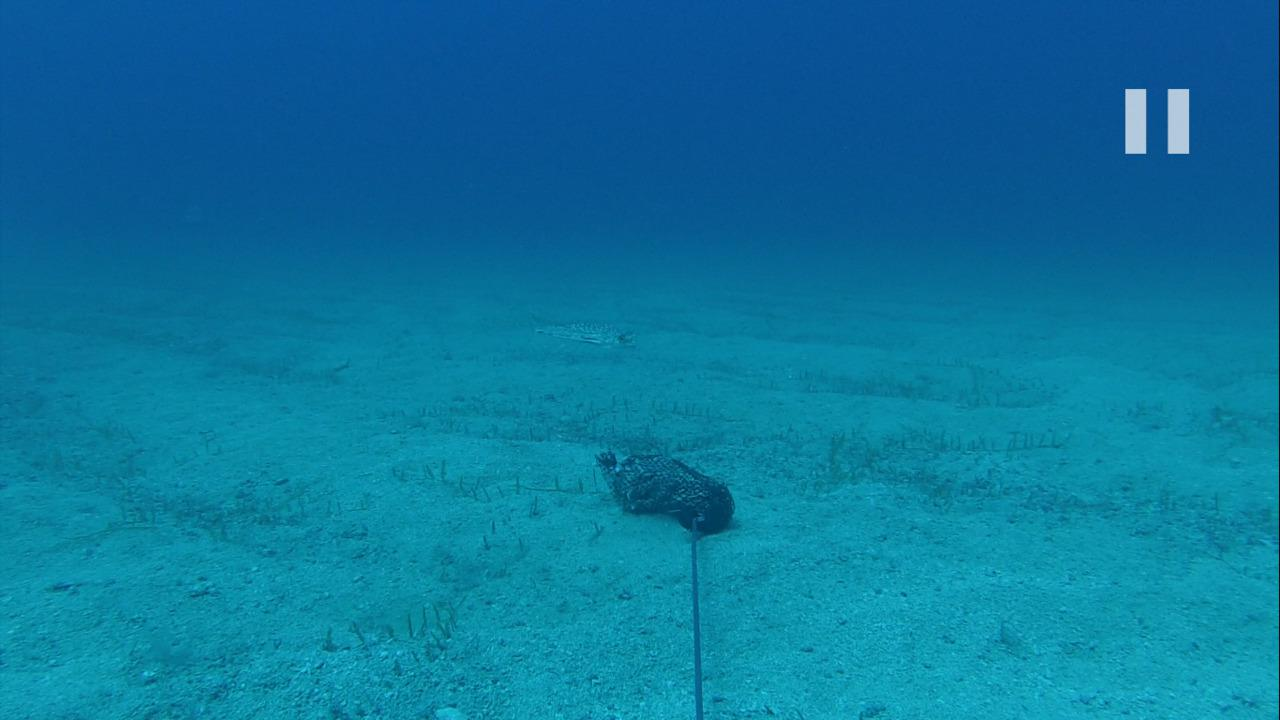dactylopterus: (506, 309, 640, 361)
